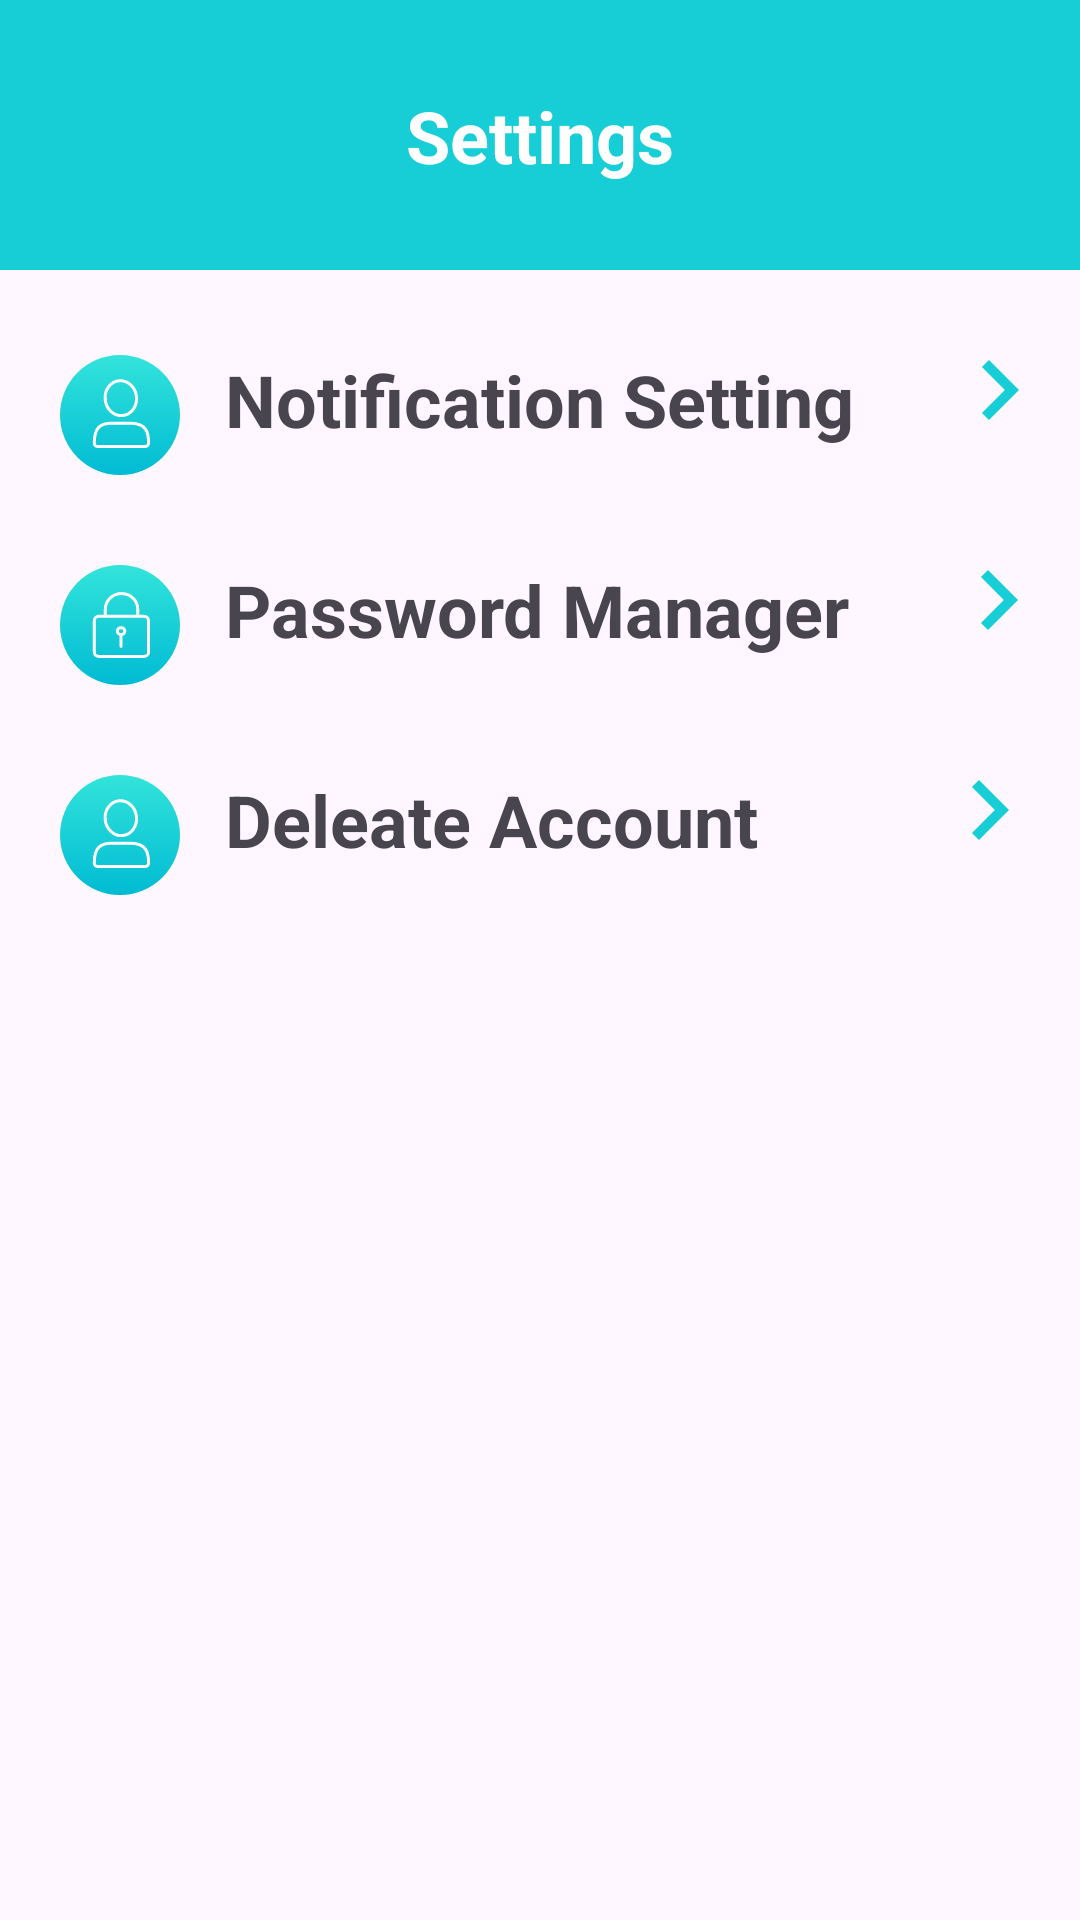

Icon click points for this 1080×1920 phone screenshot, format point (x, y):
keyboard arrow right: point (1000, 390), point (999, 600), point (990, 810)
